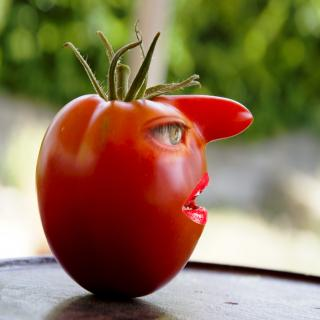tomato: (31, 69, 230, 308)
